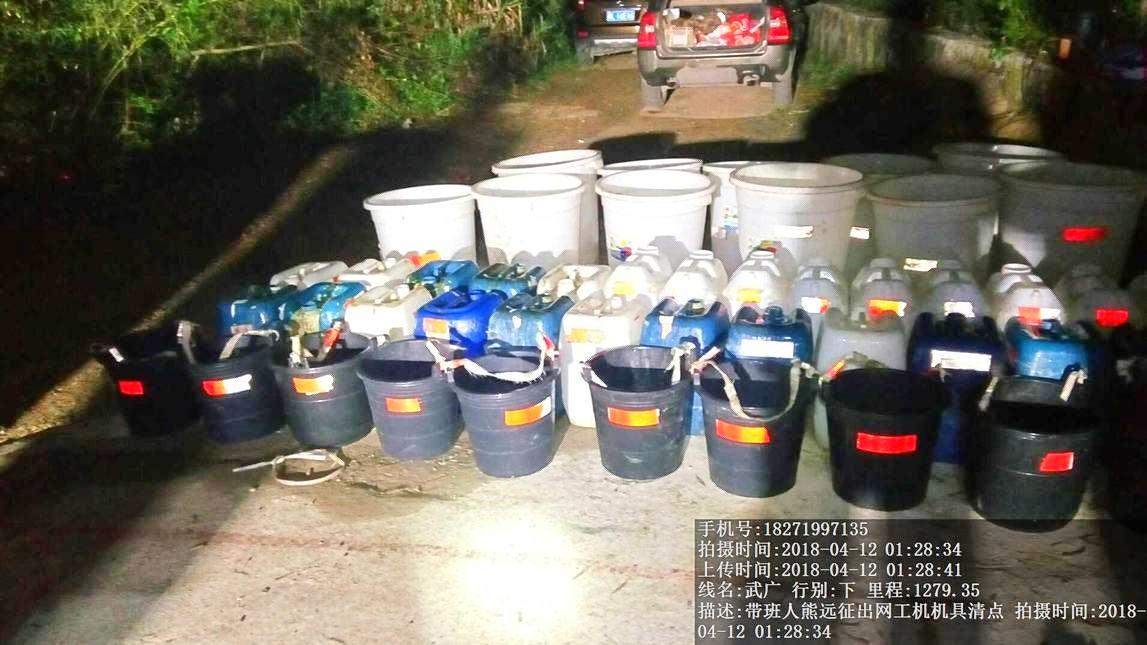SLT: (913, 306, 998, 381), (813, 302, 908, 368), (1000, 312, 1092, 378), (728, 302, 818, 359), (637, 290, 727, 347), (489, 284, 564, 346), (565, 293, 642, 346)
SNT: (581, 344, 692, 480)
